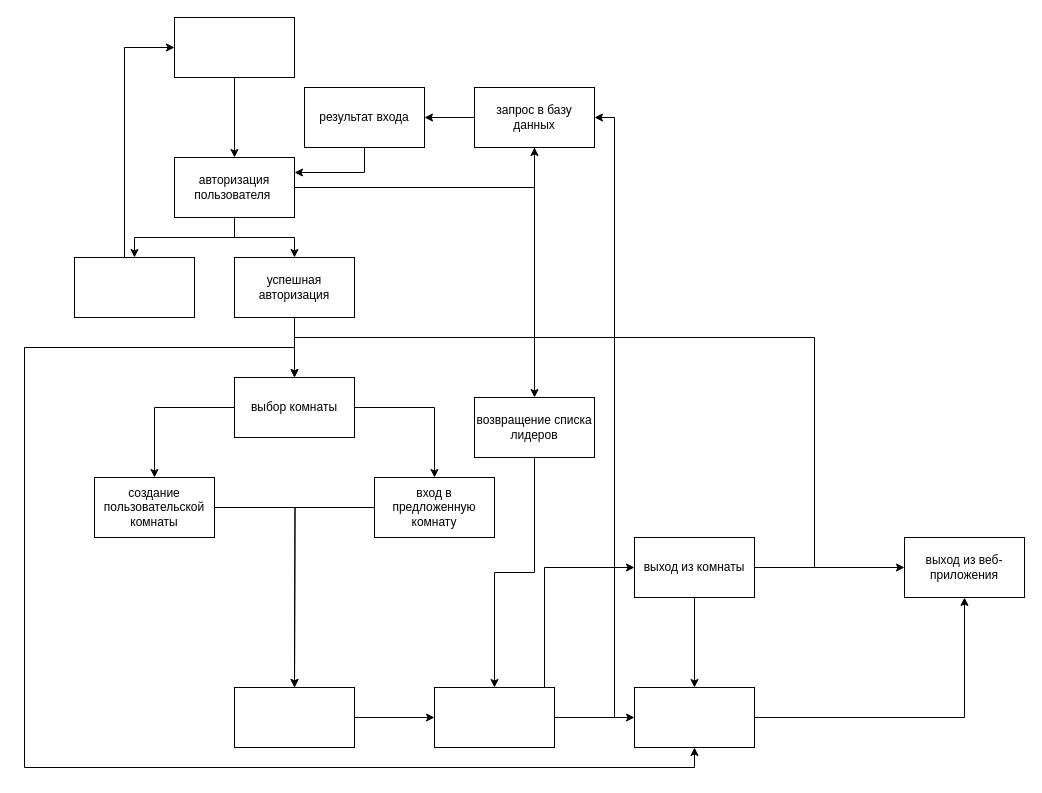
The diagram is 1042 pixels wide and 793 high, and some of its shapes have lost their labels. The shapes that lost their labels are listed below. From the top down, each one's centre as x and y in pixels, then its label:
At (234,47): "вход на сайт".
At (134,287): "неудачная попытка входа".
At (294,717): "режим игры".
At (494,717): "определение победителя".
At (694,717): "просмотр профиля и достижений".
